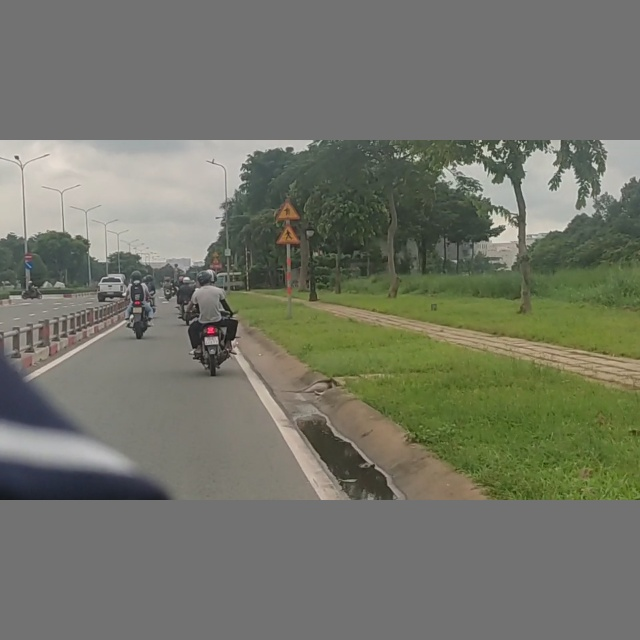P.102: (25, 253, 33, 261)
R.302a: (25, 261, 33, 269)
W.207: (277, 199, 301, 220)
W.224: (276, 224, 301, 245)
